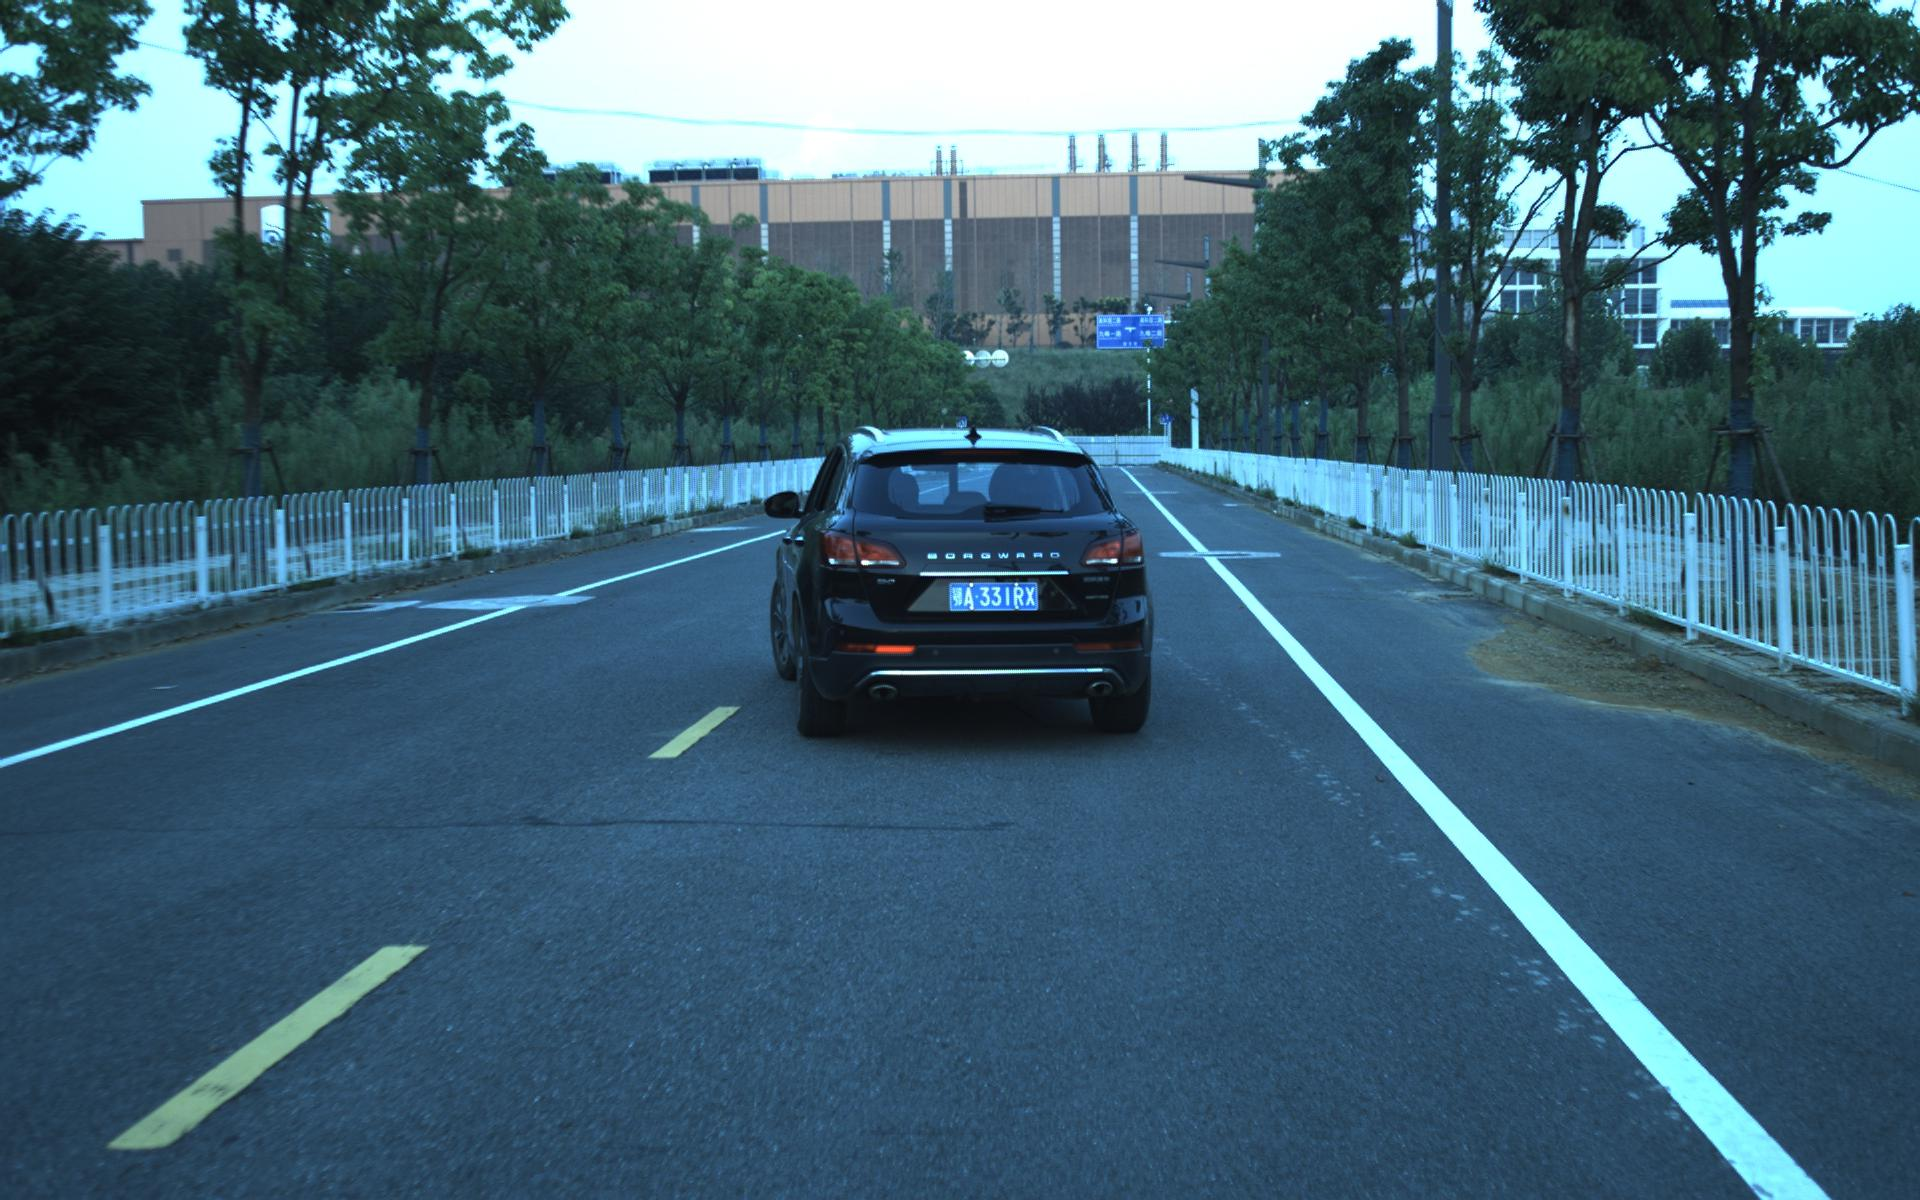Car: (771, 418, 1160, 753)
